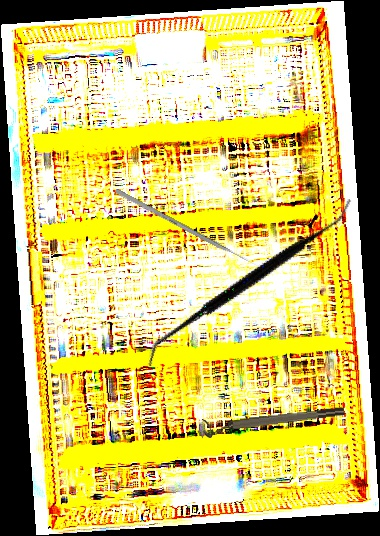Fixation Ring: (201, 404, 346, 439)
Pusher: (114, 188, 260, 269)
Spatula Surgical: (144, 151, 355, 414)
